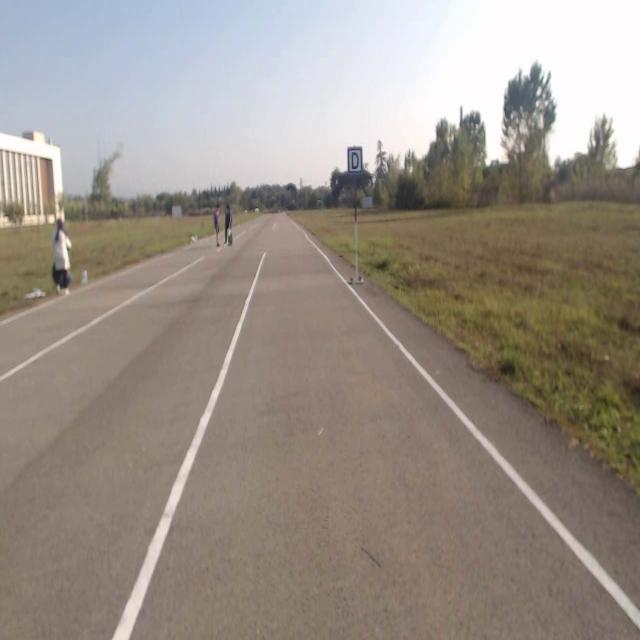durak: (347, 148, 362, 174)
